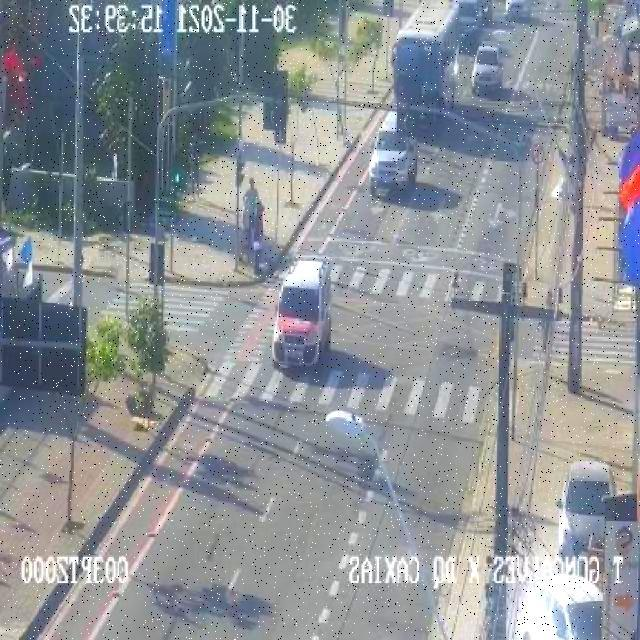Bus: (395, 0, 461, 133)
Car: (554, 458, 616, 558), (517, 575, 605, 640), (472, 44, 504, 93), (464, 0, 483, 41), (507, 0, 534, 22)
Van: (269, 256, 331, 371), (367, 111, 419, 199)
